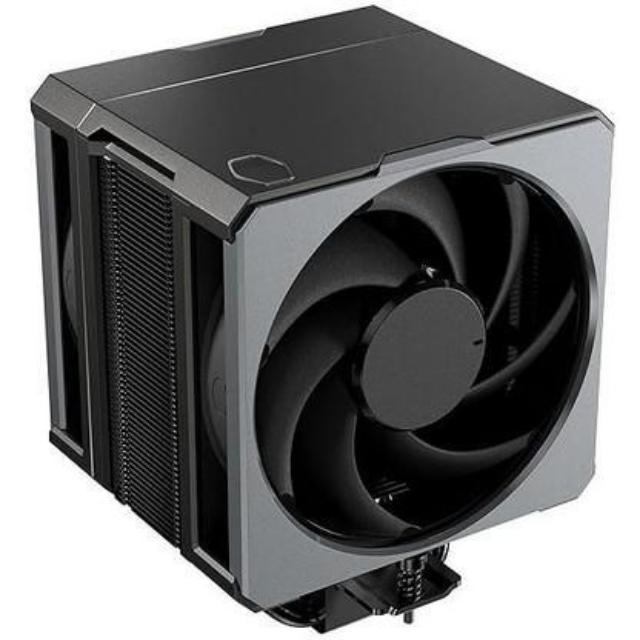CPU_Fan: (36, 0, 612, 640)
